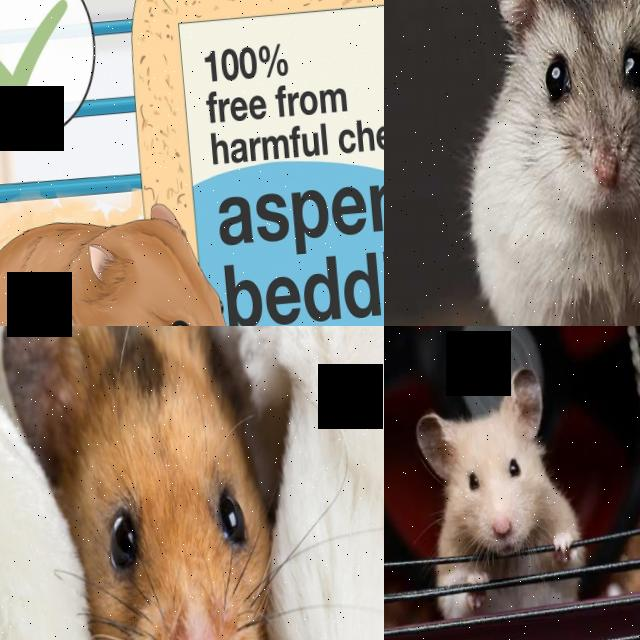hamster: (0, 326, 299, 640), (444, 0, 640, 326), (407, 361, 590, 616), (0, 195, 251, 326)
